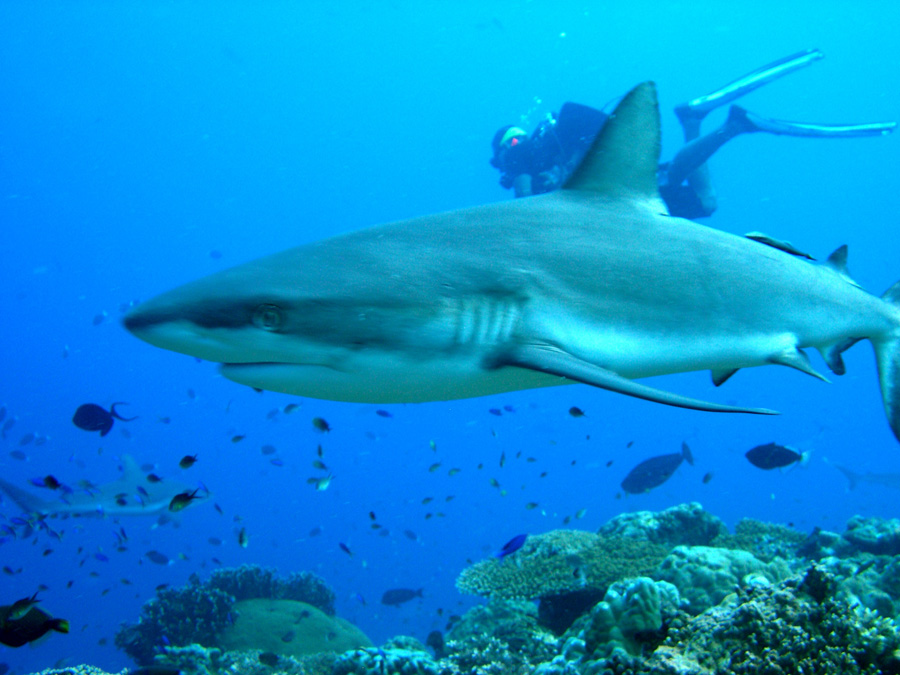Carcharhinus_amblyrhynchos: (118, 76, 900, 465)
